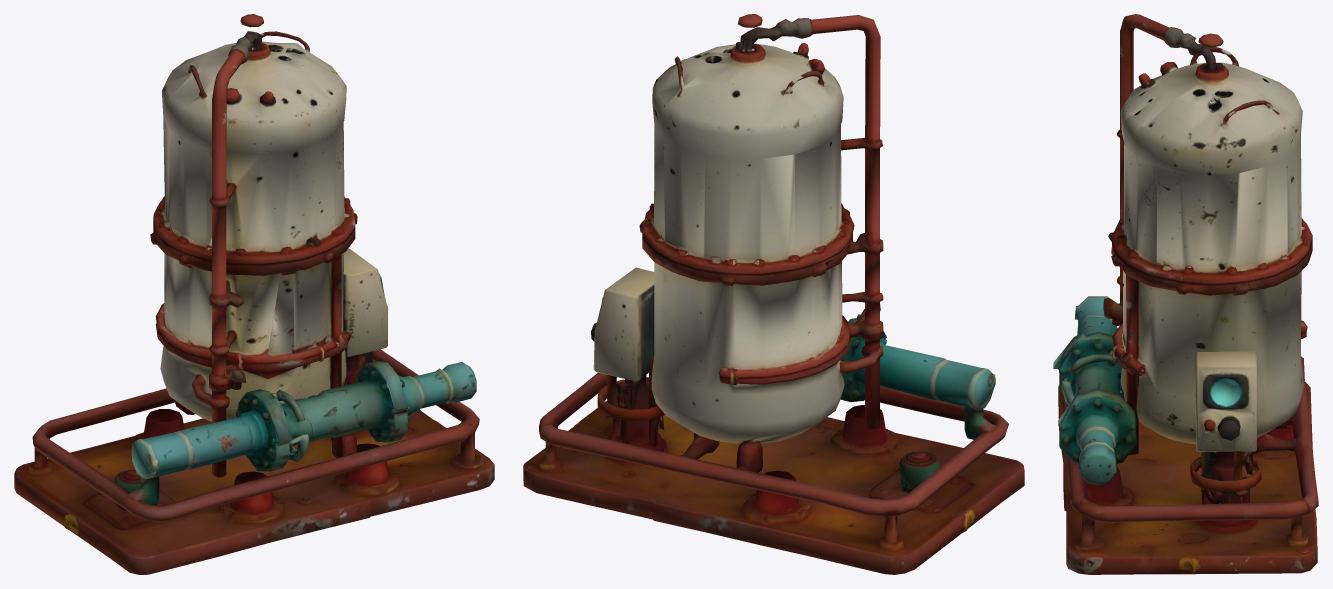
Rendered from purifier.glb.
The picture shows the model from 3 angles, left to right: view 1: azimuth 30°, elevation 25°; view 2: azimuth 150°, elevation 25°; view 3: azimuth 270°, elevation 25°; orthographic projection. The views are drawn at different scales.
Visible parts, largest first — view 1: tripo_node_d27c08d7-b6d8-4948-9ea5-ae5e6ba576f1; view 2: tripo_node_d27c08d7-b6d8-4948-9ea5-ae5e6ba576f1; view 3: tripo_node_d27c08d7-b6d8-4948-9ea5-ae5e6ba576f1.
Part boxes in pixels (x1=…): tripo_node_d27c08d7-b6d8-4948-9ea5-ae5e6ba576f1: x1=14, y1=14, x2=494, y2=574; tripo_node_d27c08d7-b6d8-4948-9ea5-ae5e6ba576f1: x1=523, y1=14, x2=1024, y2=574; tripo_node_d27c08d7-b6d8-4948-9ea5-ae5e6ba576f1: x1=1053, y1=14, x2=1318, y2=574.
Size of the model in its own units: 0.8574 by 0.998 by 0.5293.
1 material, 1 textured.
